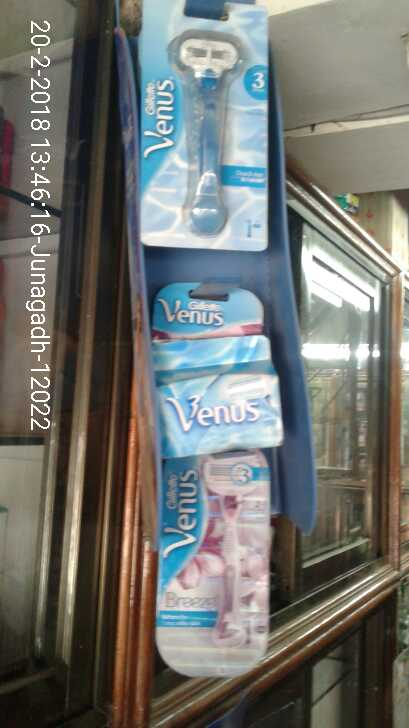venus: (139, 3, 273, 243), (152, 440, 273, 674), (154, 334, 286, 461)
